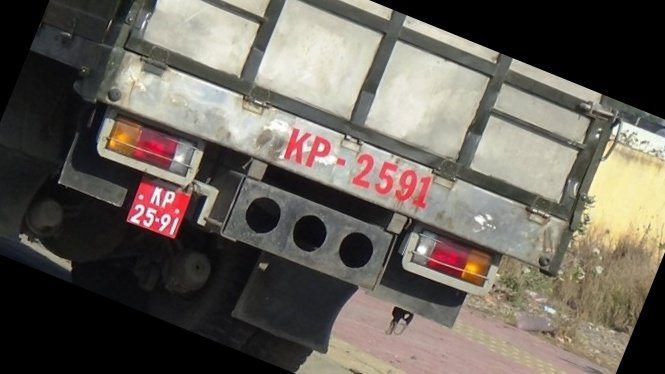plate: (123, 178, 189, 237)
